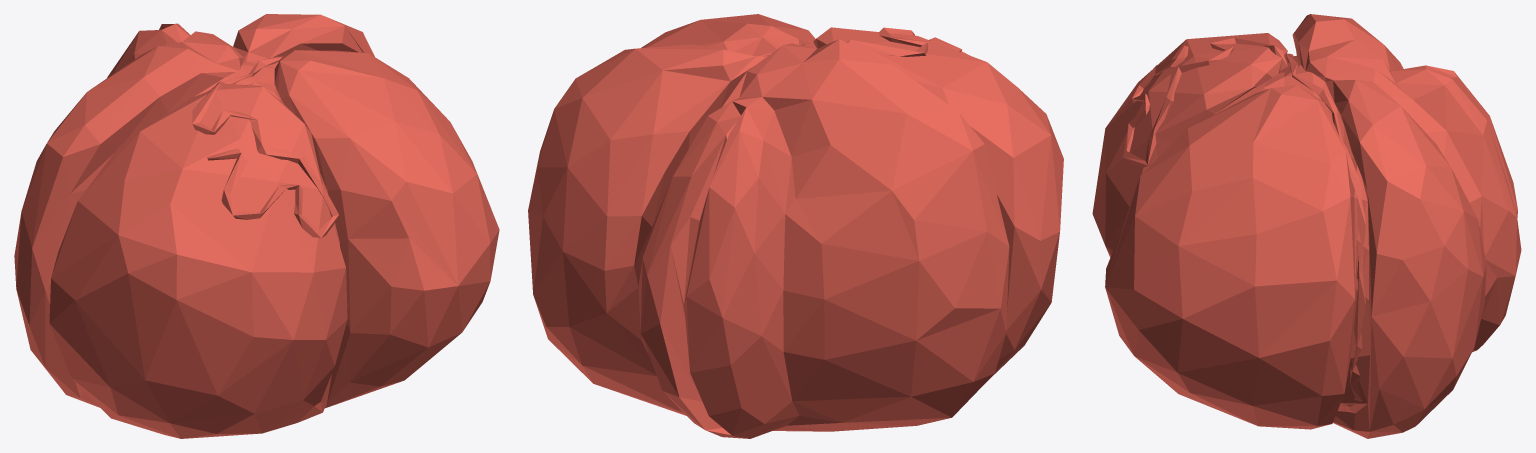
File: kbrevis.fbx
3 views of the same model, side by side, from view 1: azimuth 30°, elevation 25°; view 2: azimuth 150°, elevation 25°; view 3: azimuth 270°, elevation 25° (orthographic). The views are drawn at different scales.
Visible parts, largest first — view 1: KBrevis; view 2: KBrevis; view 3: KBrevis.
Part boxes in pixels (x1,y1,x2,y2): KBrevis: [14, 14, 499, 438]; KBrevis: [528, 14, 1063, 438]; KBrevis: [1092, 14, 1521, 438].
Bounding box in the file's own units: 72118 × 61935 × 65920.
